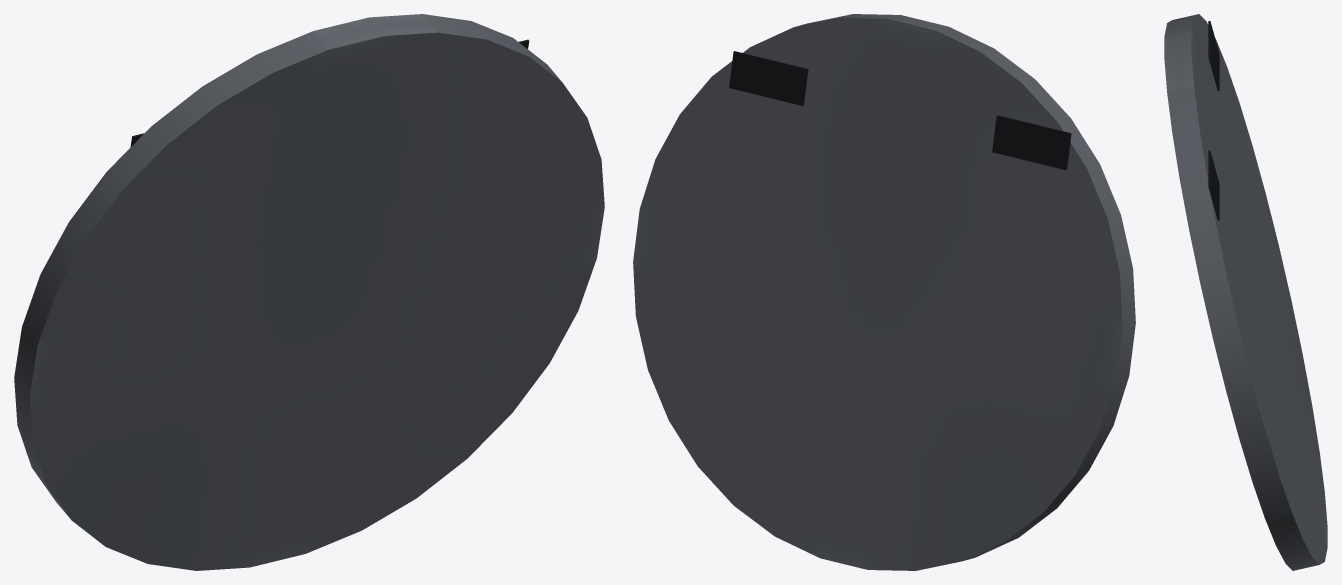
Rendered from lid_open.obj.
3 views of the same model, side by side, from view 1: azimuth 30°, elevation 25°; view 2: azimuth 150°, elevation 25°; view 3: azimuth 270°, elevation 25° (orthographic). The views are drawn at different scales.
Visible parts, largest first — view 1: pump_manhole_cover__lid_open__lid; view 2: pump_manhole_cover__lid_open__lid, pump_manhole_cover__lid_open__pry_slots; view 3: pump_manhole_cover__lid_open__lid, pump_manhole_cover__lid_open__pry_slots.
Part boxes in pixels (x1,y1,x2,y2): pump_manhole_cover__lid_open__lid: [14, 14, 604, 570]; pump_manhole_cover__lid_open__lid: [633, 14, 1135, 570]; pump_manhole_cover__lid_open__pry_slots: [729, 51, 1071, 170]; pump_manhole_cover__lid_open__lid: [1164, 14, 1327, 570]; pump_manhole_cover__lid_open__pry_slots: [1208, 21, 1219, 220].
Size of the model in its own units: 0.7339 by 0.7209 by 0.2127.
